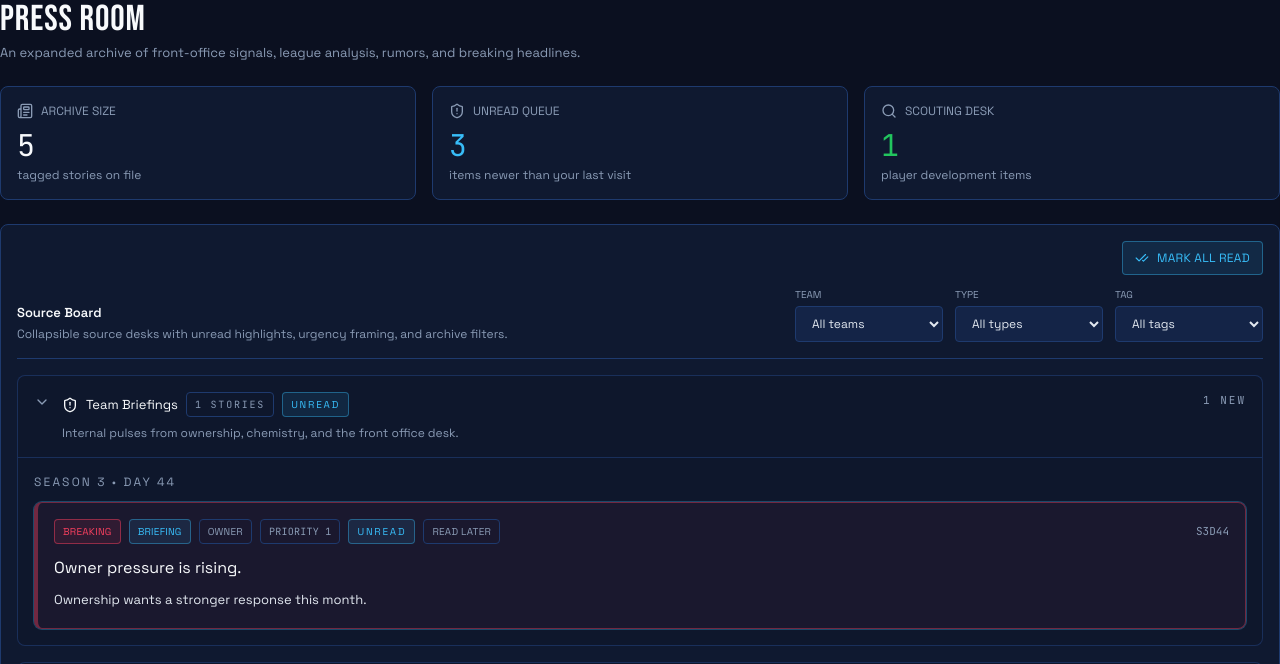
Test: PressRoomPage › renders collapsible source sections, scouting grouping, and unread state
This screenshot has width=1280, height=664.
Select "WATCH" in the dropdown labelled "Tag" at (1189, 324), box [1115,306,1263,342]
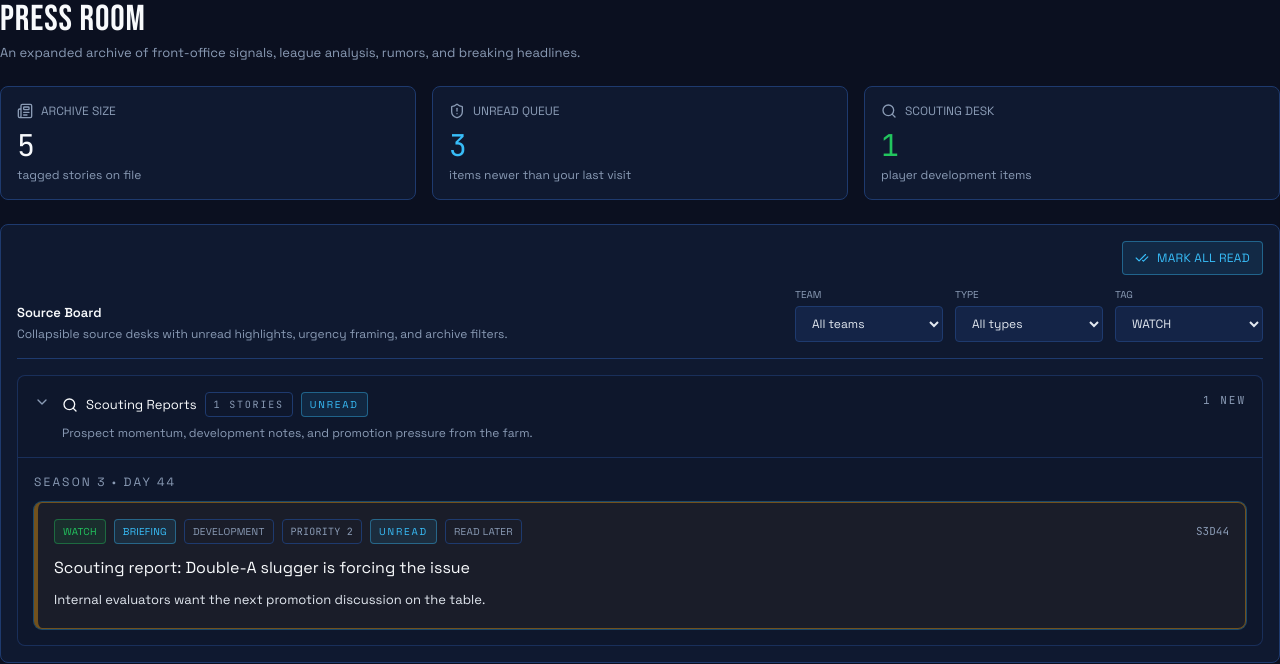
Expected: the text "Scouting report: Double-A slugger is forcing the issue" is shown, [54,557,470,578]
Expected: the text "Owner pressure is rising." is gone
